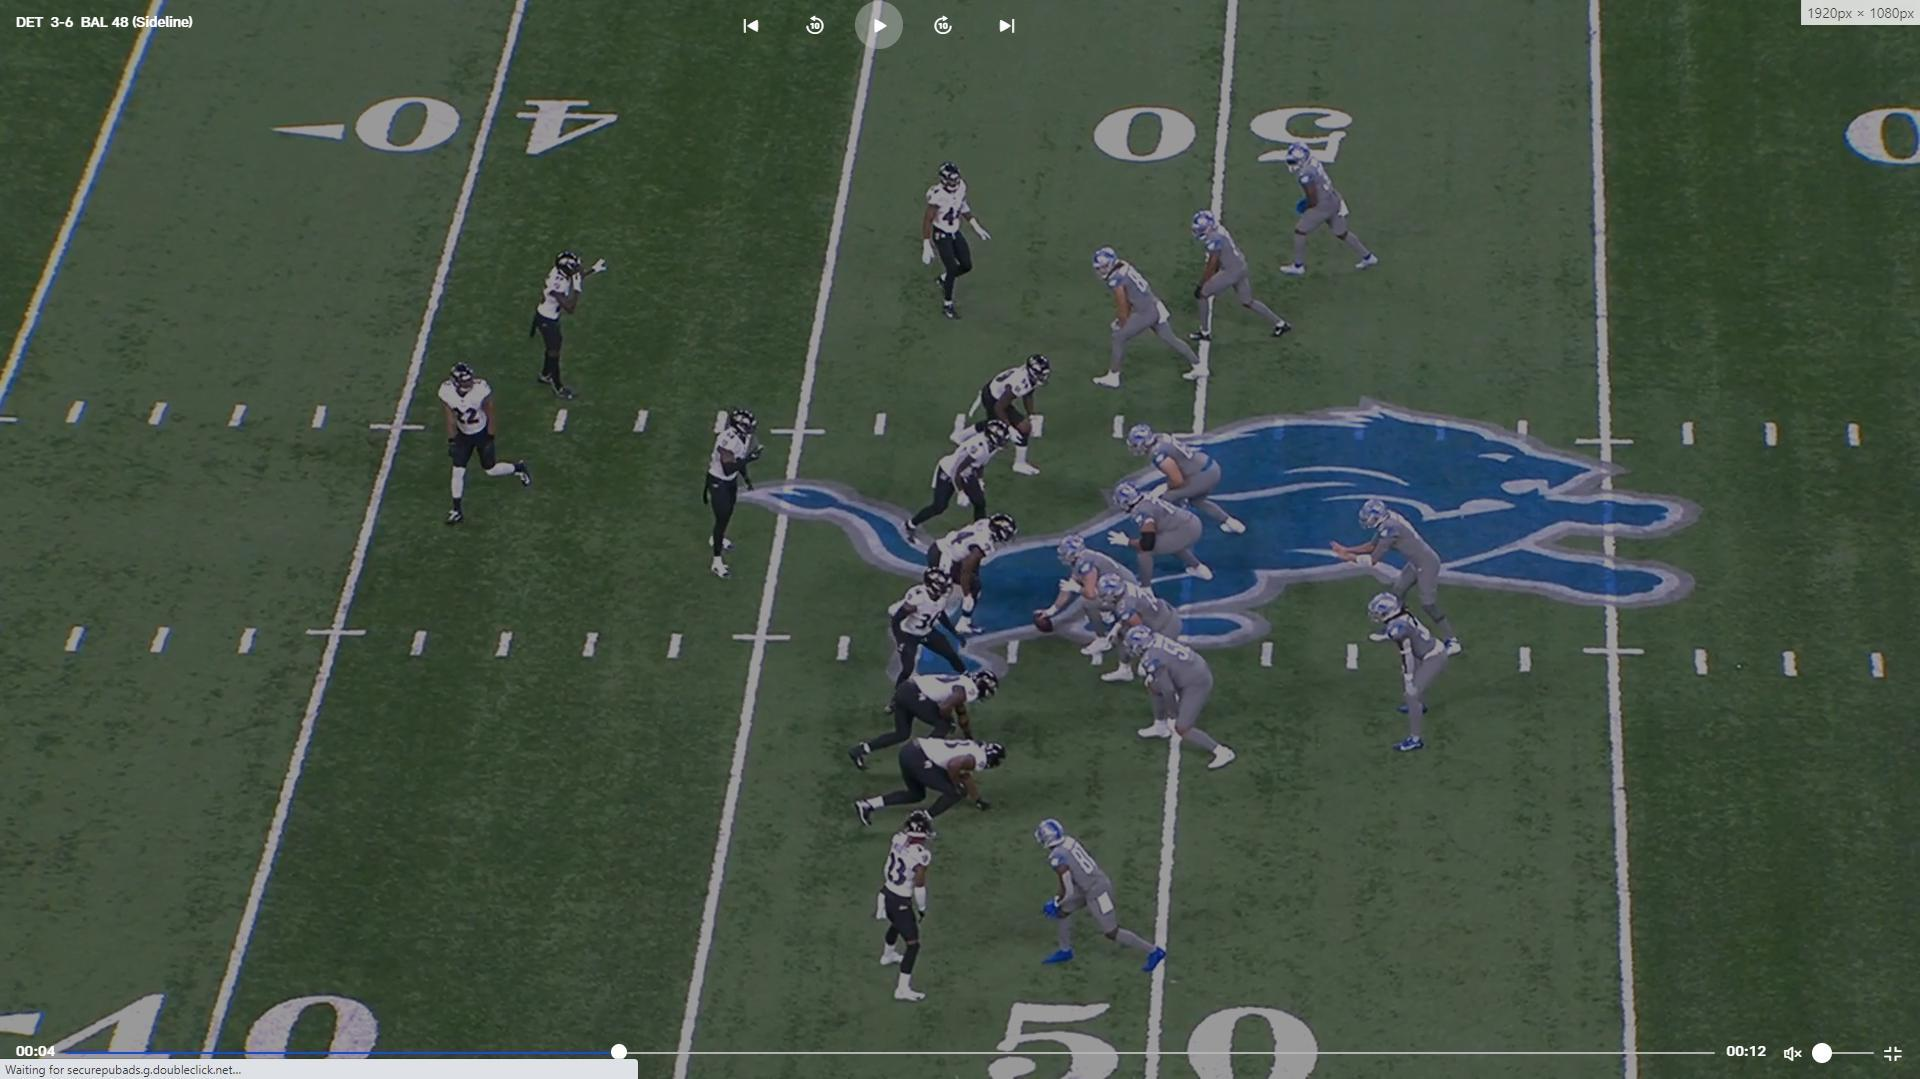player: (853, 565, 983, 774), (1030, 821, 1160, 983), (1339, 500, 1461, 666), (1081, 247, 1203, 398), (1119, 625, 1232, 779), (843, 664, 1000, 774), (434, 362, 532, 528), (1278, 131, 1385, 278), (1186, 209, 1297, 347), (848, 731, 1002, 829), (1369, 593, 1457, 763), (953, 352, 1064, 486), (903, 419, 1014, 543), (1136, 424, 1250, 543), (868, 819, 937, 1012), (537, 252, 617, 412), (1094, 565, 1187, 691), (1113, 477, 1209, 597), (913, 162, 981, 331), (696, 405, 759, 586), (937, 514, 1026, 634), (1039, 539, 1138, 642)
